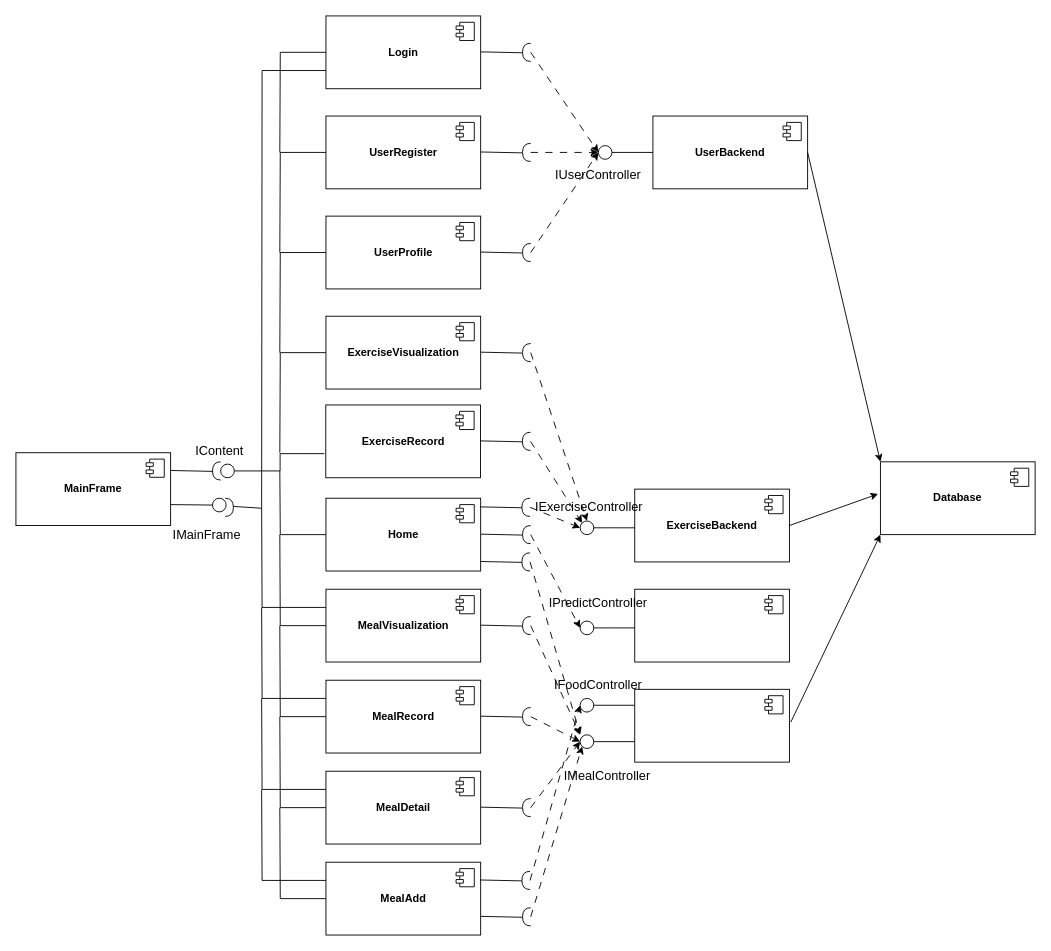
Image size: 1051x951. Some labels were removed from this diagram. Each missing label, with the centre of its shape:
"MealBackend" belongs at point 711,725.
"Predict" belongs at point 711,625.
